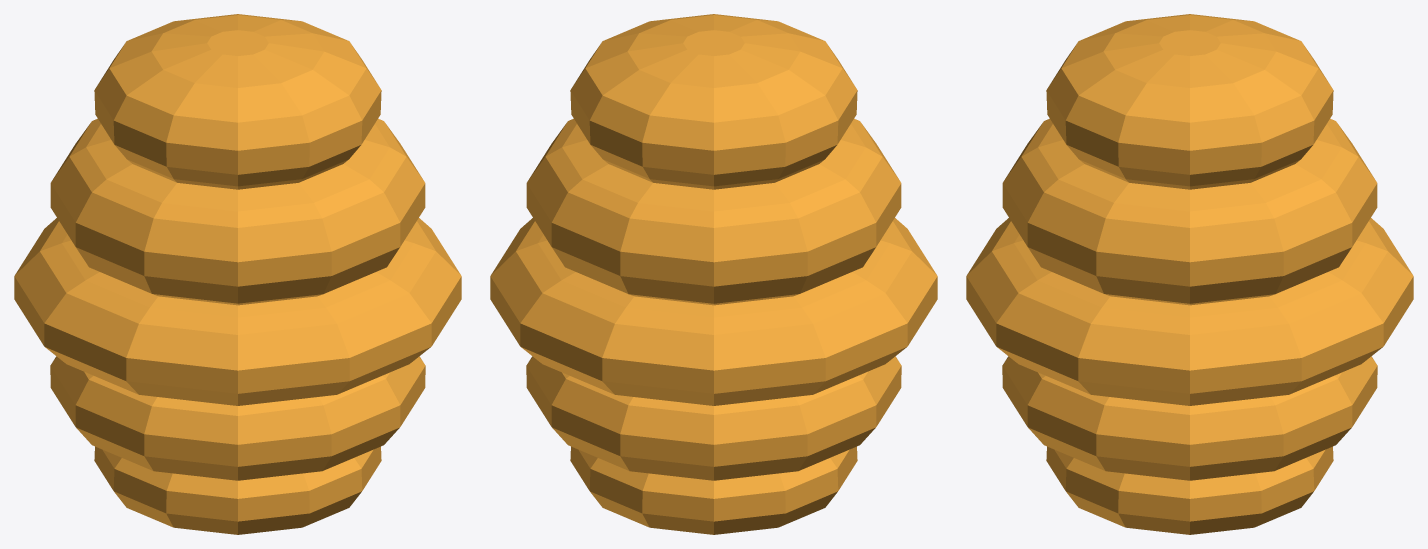
Rendered from bee_honeycomb.fbx.
3 renders of one model, left to right at view 1: azimuth 30°, elevation 25°; view 2: azimuth 150°, elevation 25°; view 3: azimuth 270°, elevation 25°, orthographic.
Visible parts, largest first — view 1: bee_honeycomb; view 2: bee_honeycomb; view 3: bee_honeycomb.
Boxes of the visible parts, x1,y1,x2,y2 form: bee_honeycomb: [14, 14, 461, 534]; bee_honeycomb: [490, 14, 937, 534]; bee_honeycomb: [966, 14, 1413, 534].
Size of the model in its own units: 202 by 228 by 202.
